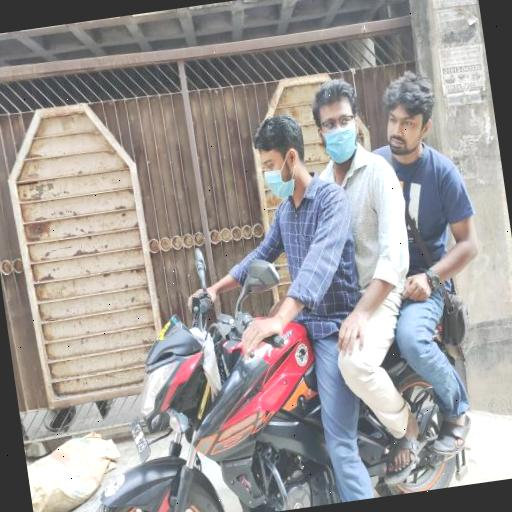no helmet: (238, 100, 316, 206)
triple riding: (31, 63, 490, 512)
